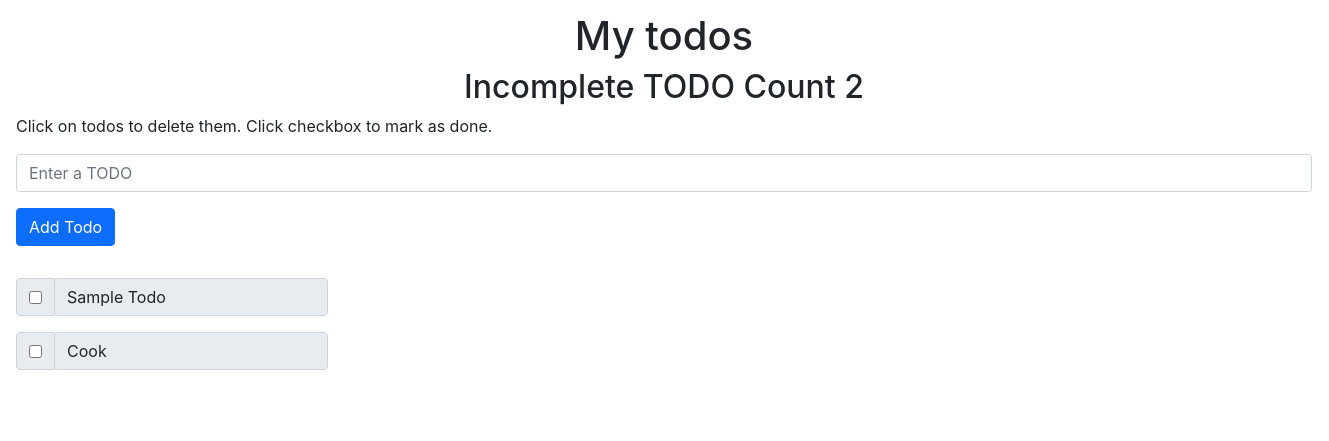
Test: App Component › should add todo on Add button click
The width and height of the screenshot is (1329, 441).
Type "Code" into the field with placeholder "Enter a TODO" at (664,173), box left=16, top=154, right=1312, bottom=192
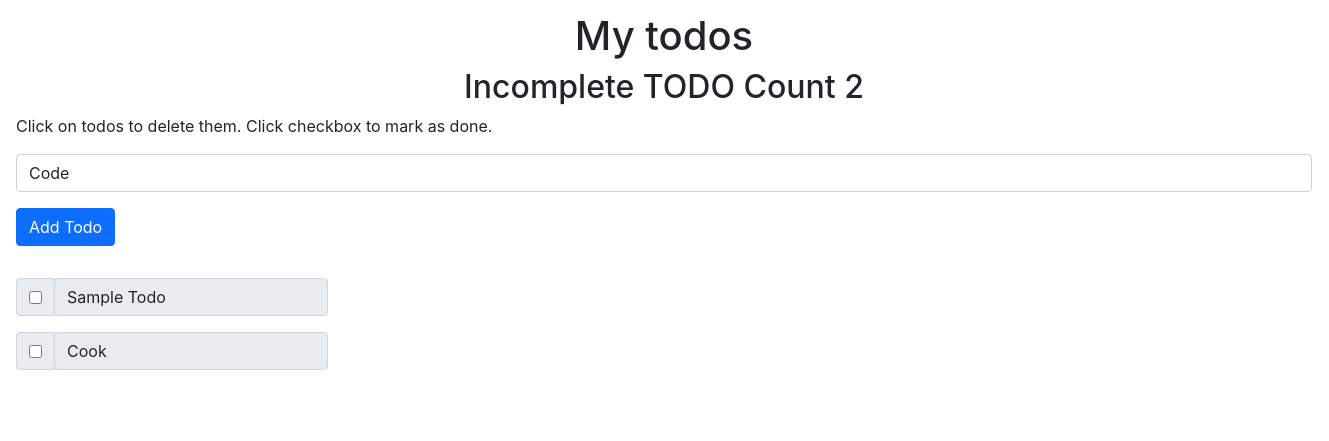
Click the button "Add Todo" at (66,227), box left=16, top=208, right=115, bottom=246
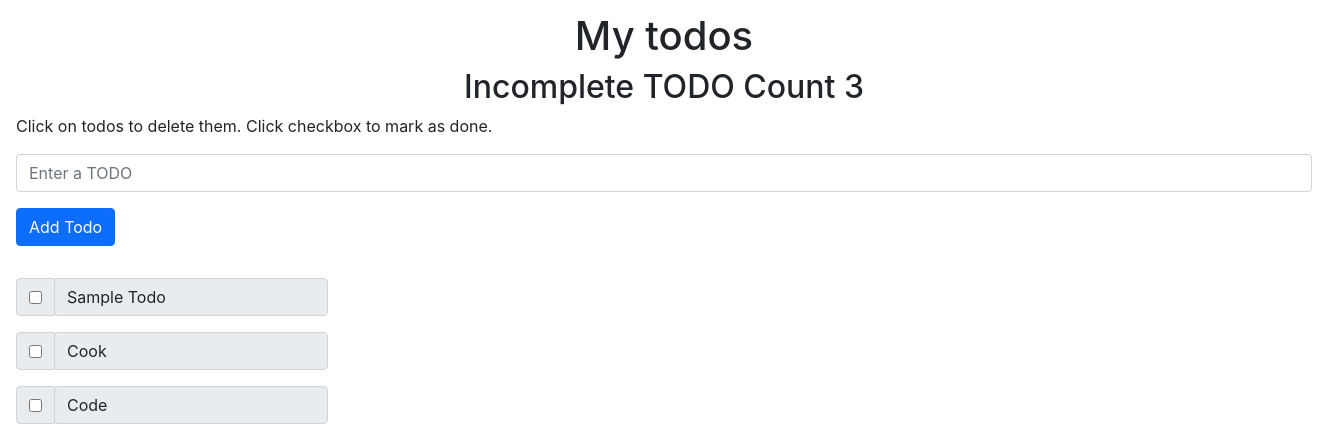
Check: the element with test id "div-todo-item-2" is shown, box left=16, top=386, right=328, bottom=424
